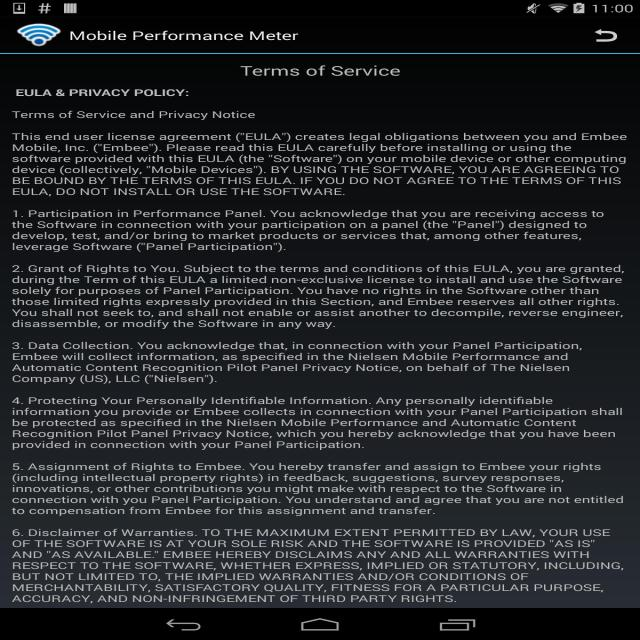button: (591, 24, 623, 47)
heading: (69, 28, 301, 46), (242, 62, 401, 82), (13, 84, 194, 101)
image: (13, 22, 64, 48)
text: (9, 527, 624, 605), (9, 262, 630, 332), (7, 132, 632, 198), (9, 459, 626, 520), (9, 396, 625, 454), (8, 339, 628, 391), (10, 206, 629, 253), (9, 109, 260, 122)
